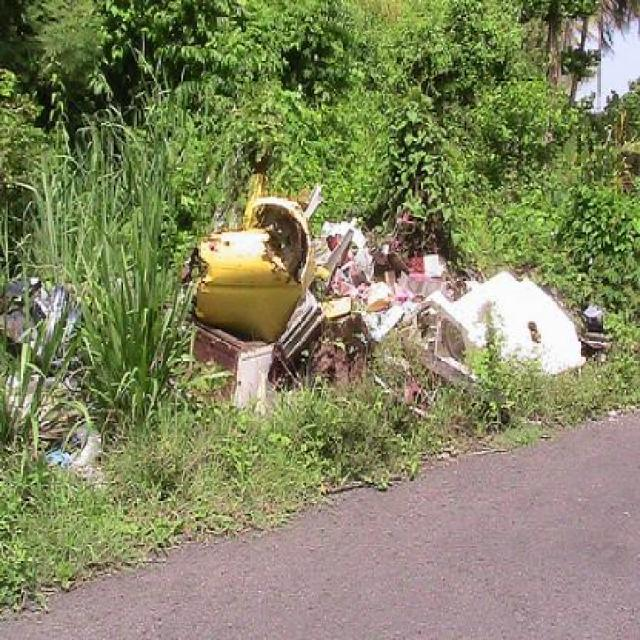garbage: (198, 199, 440, 396)
